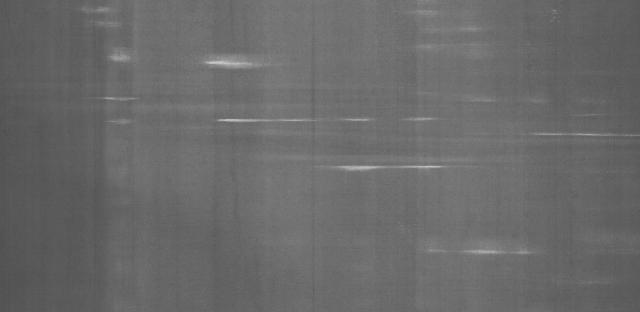waist_folding: (83, 29, 612, 264)
